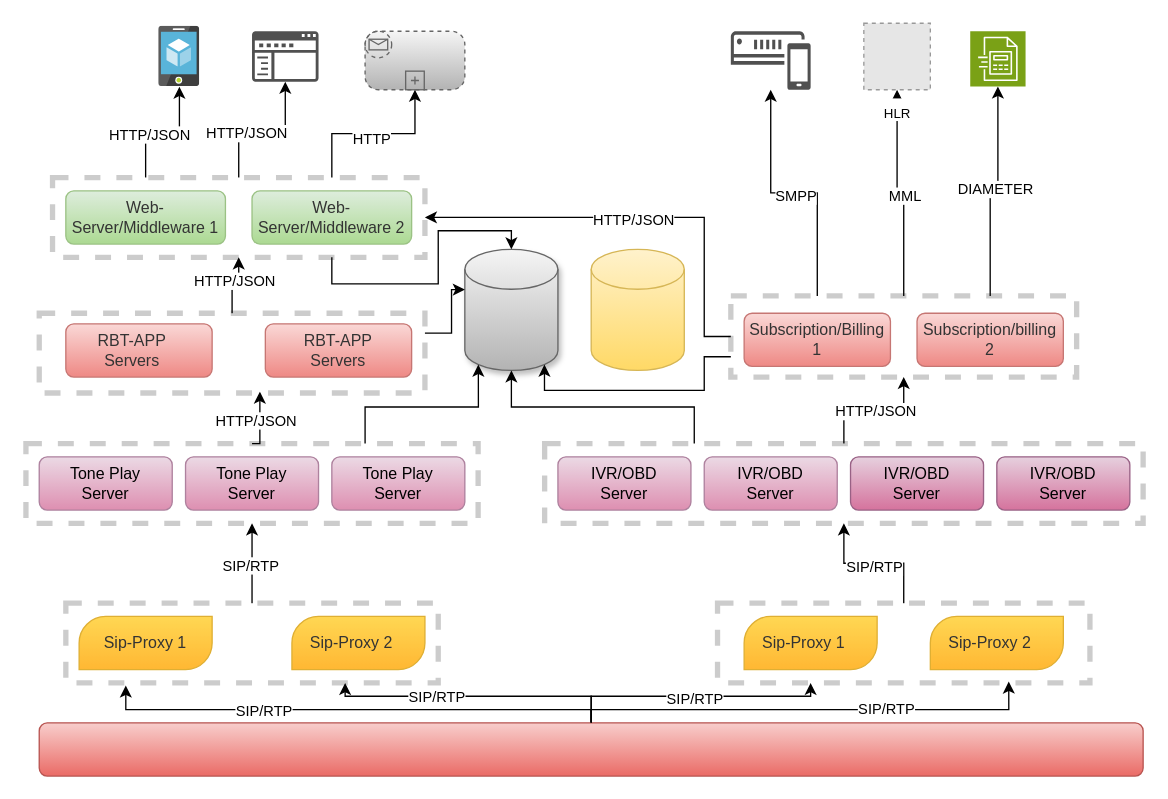
The diagram is 1168 pixels wide and 799 high, and some of its shapes have lost their labels. Grey dashed boxes stand in for pictures. The shapes that lost their labels are listed below. From the top down, each one's centre as x and y in pixels, then its label:
At pixel 178 56: "3rd Party App".
At pixel 284 56: "Web Portal".
At pixel 414 60: "USSD".
At pixel 770 60: "SMSC".
At pixel 997 58: "CBS".
At pixel 512 311: "NFS".
At pixel 637 309: "My-Sql Database".
At pixel 590 749: "GMSC".
